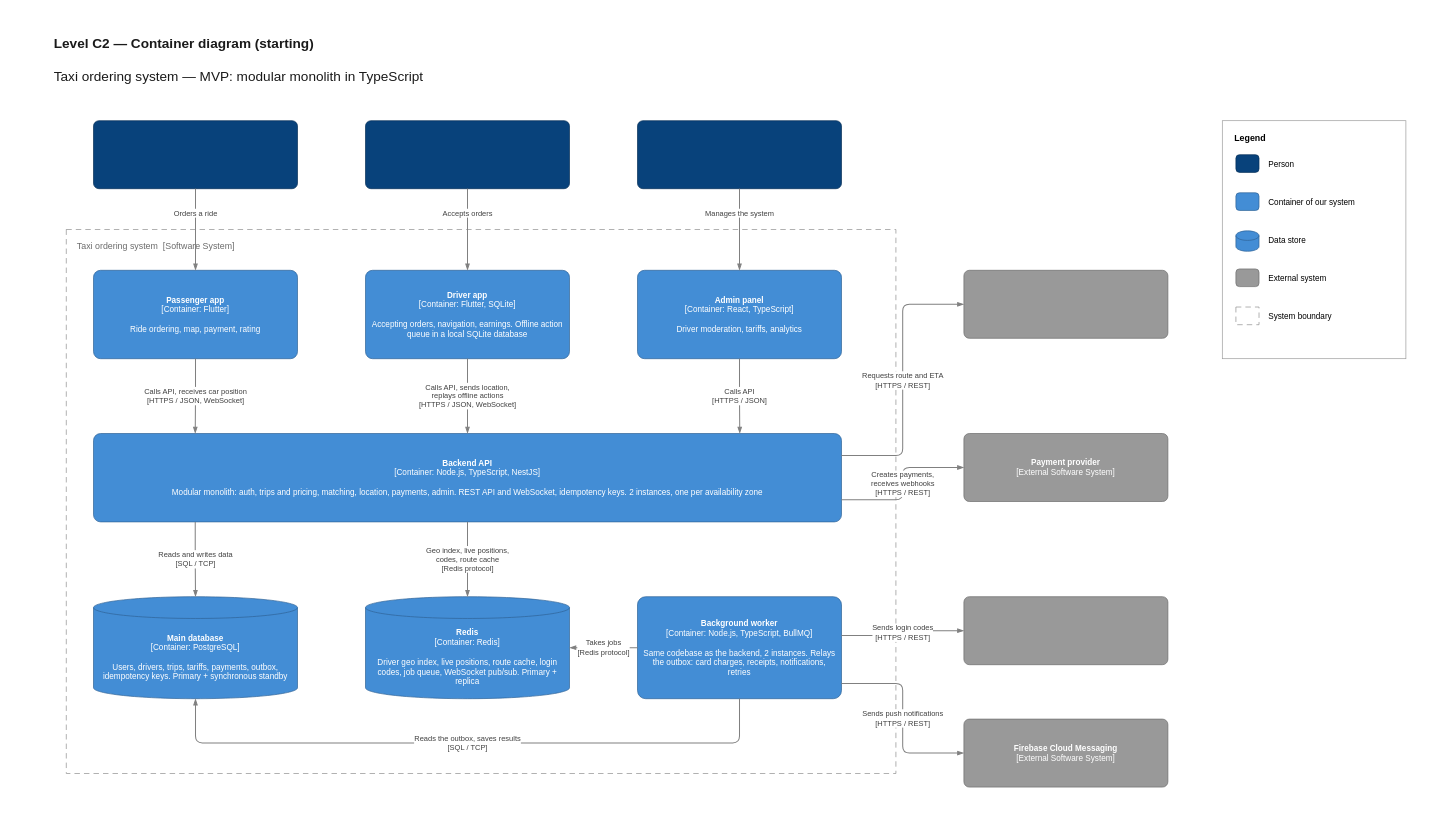
Image size: 1444x826. Some labels were removed from this diagram. The shapes that lost their labels are listed below. From the top down, each one's centre as x and y in pixels, then its label:
At (x=195, y=154): "Passenger [Person]".
At (x=467, y=154): "Driver [Person]".
At (x=739, y=154): "Support operator [Person]".
At (x=1065, y=304): "Google Maps API [External Software System]".
At (x=1065, y=630): "SMS gateway [External Software System]".
